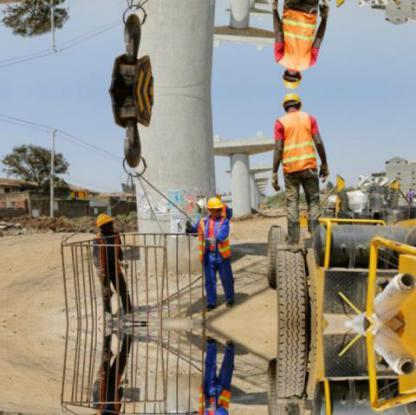helmet: (96, 210, 118, 235), (205, 194, 226, 220), (283, 91, 305, 111), (283, 69, 305, 89)
